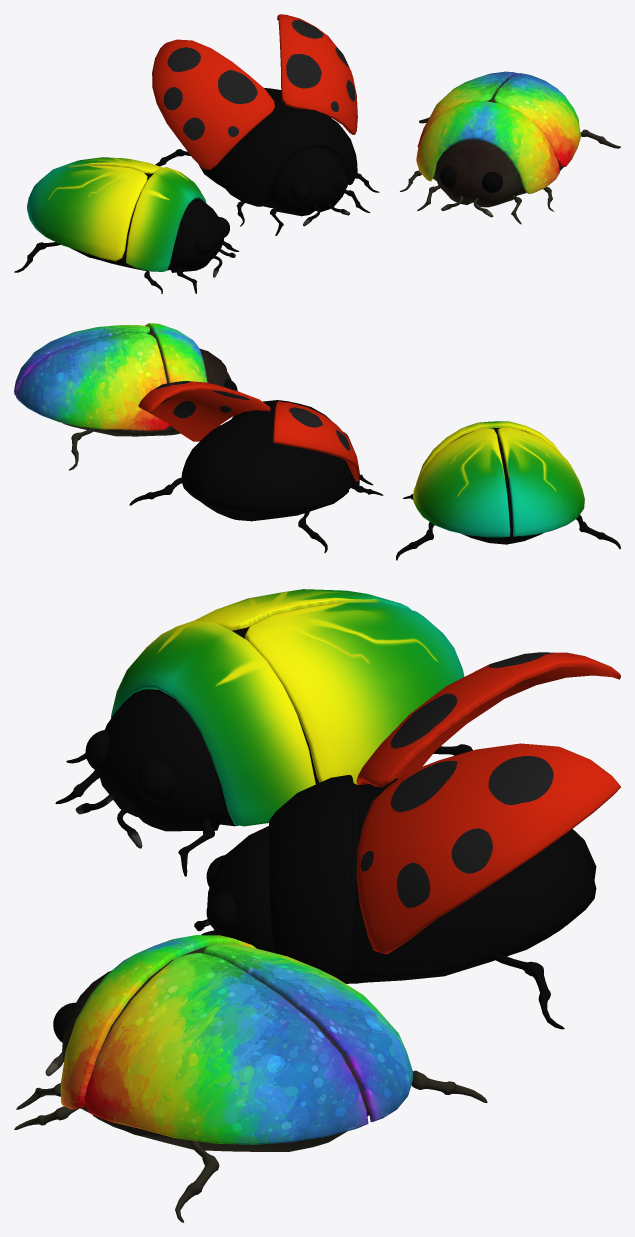
File: bug.glb
3 views of the same model, one above another, from view 1: azimuth 30°, elevation 25°; view 2: azimuth 150°, elevation 25°; view 3: azimuth 270°, elevation 25° (orthographic). The views are drawn at different scales.
Visible parts, largest first — view 1: beatle1, beatle3, beatle2; view 2: beatle1, beatle3, beatle2; view 3: beatle1, beatle3, beatle2.
Part boxes in pixels (x1,y1,x2,y2): beatle1: (152, 14, 379, 235); beatle3: (14, 157, 238, 293); beatle2: (400, 71, 620, 224); beatle1: (129, 381, 383, 552); beatle3: (396, 421, 620, 560); beatle2: (14, 323, 237, 470); beatle1: (194, 652, 620, 1029); beatle3: (55, 589, 472, 876); beatle2: (14, 935, 487, 1222).
Size of the model in its own units: 9.21 by 2 by 4.17.
Materials: 3 (3 with a texture image).
